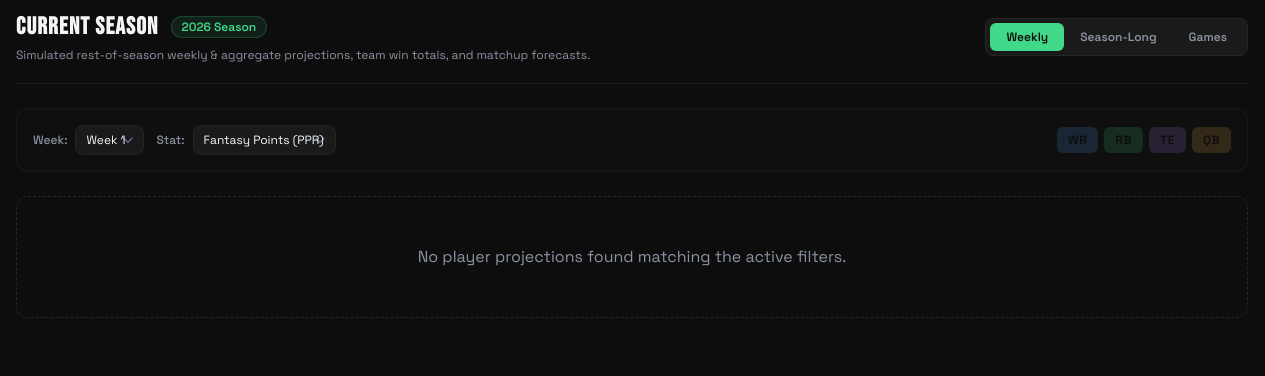
it: CurrentSeason › switches to Season-Long tab
The width and height of the screenshot is (1265, 376).
Click the button "Season-Long".
click(1118, 37)  # box [1064,23,1173,51]
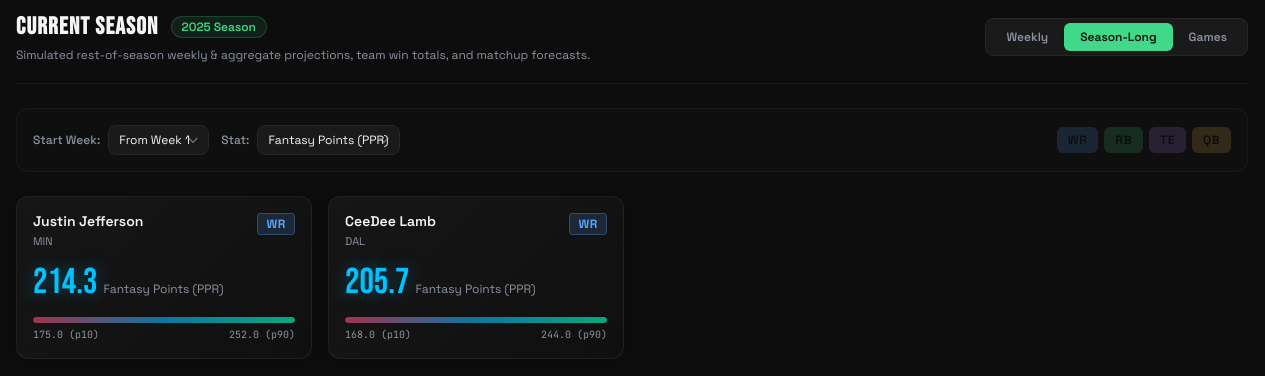
Check: the text "Start Week:" is shown, box [33,132,100,148]
